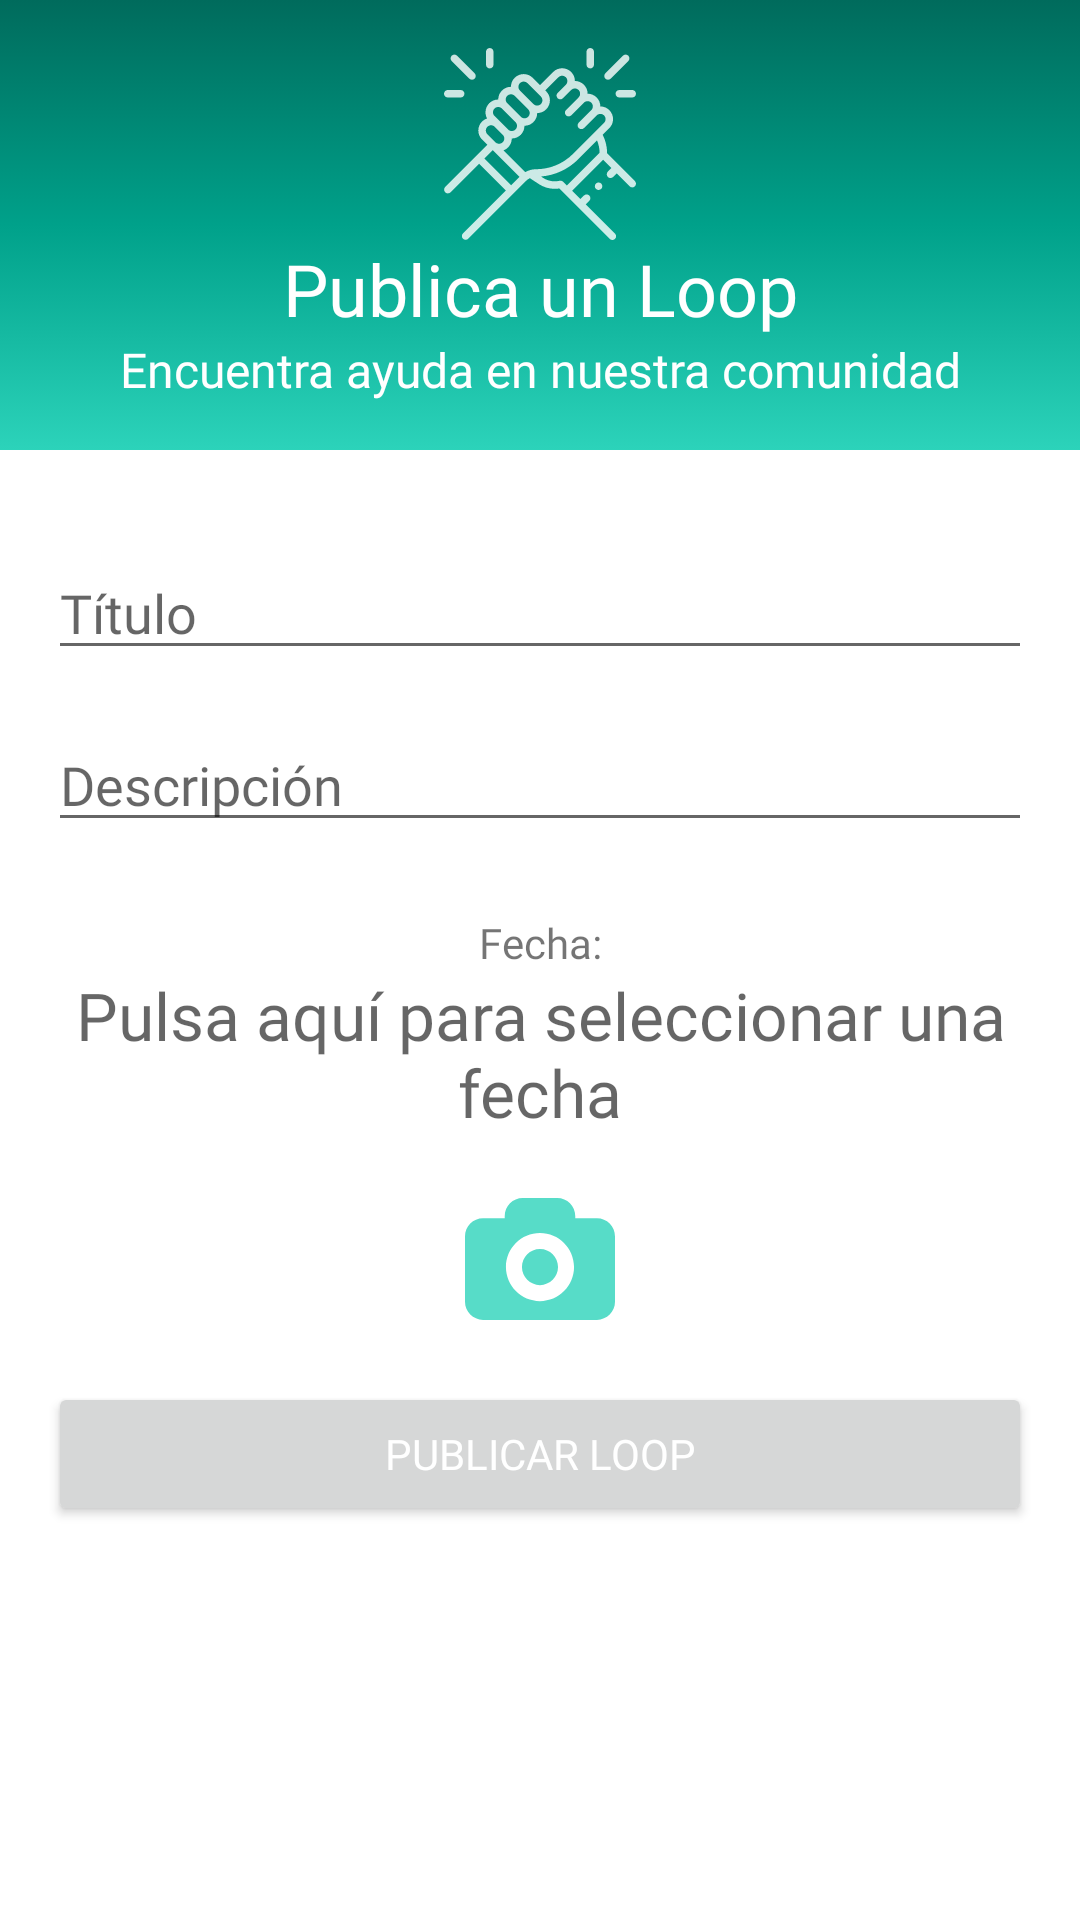

Where to tap for icons on this 1080×1920 app screen, as point (x, y):
camera: point (540, 1259)
help: point (540, 144)
